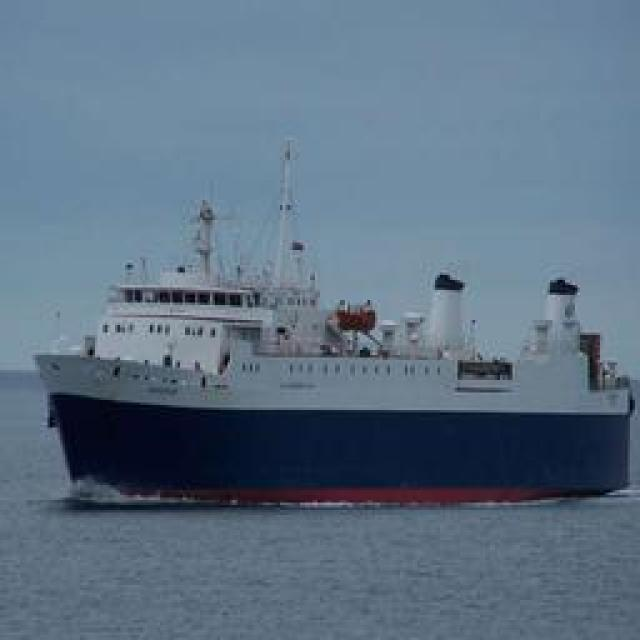CIV_Ship: (37, 115, 640, 502)
